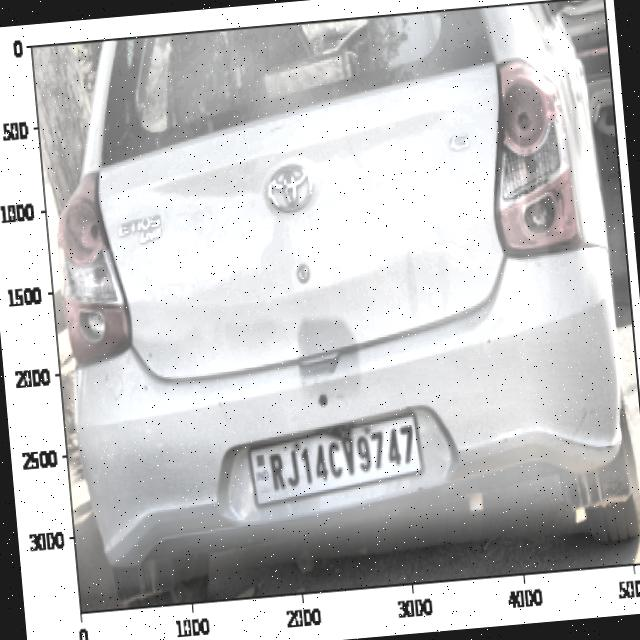license_plate: (264, 416, 418, 494)
